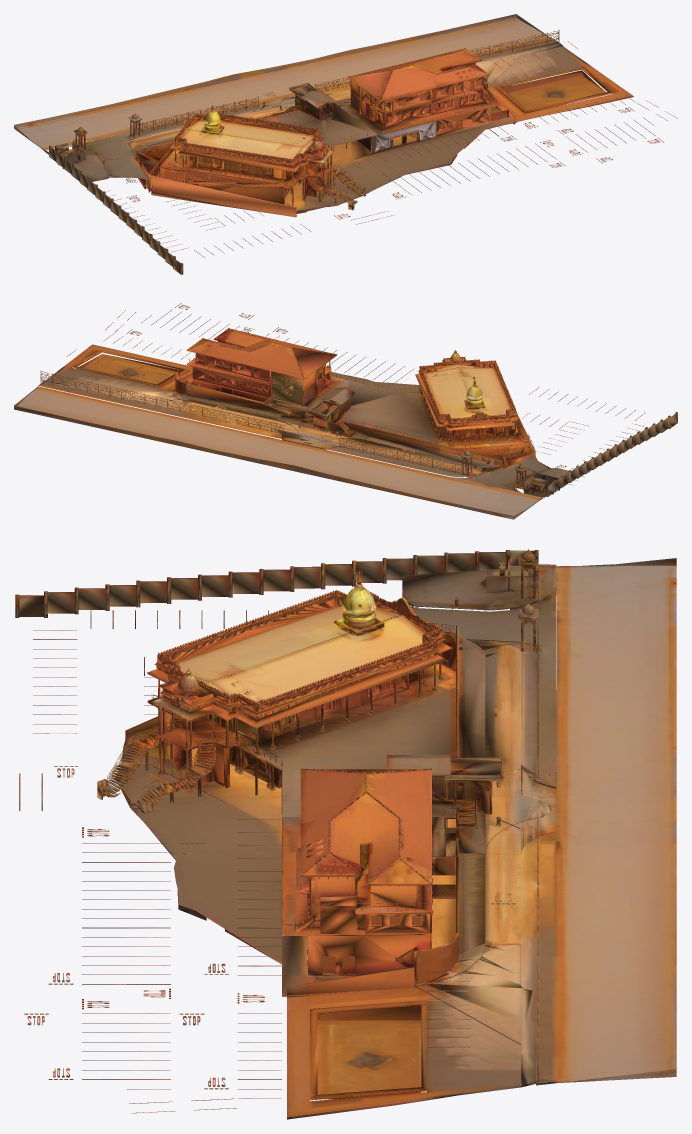
File: modelwithtexture.glb
3 views of the same model, one above another, from view 1: azimuth 30°, elevation 25°; view 2: azimuth 150°, elevation 25°; view 3: azimuth 270°, elevation 25° (orthographic). The views are drawn at different scales.
Bounding box in the file's own units: 2 × 0.2939 × 1.09.
Materials: 1 (1 with a texture image).
